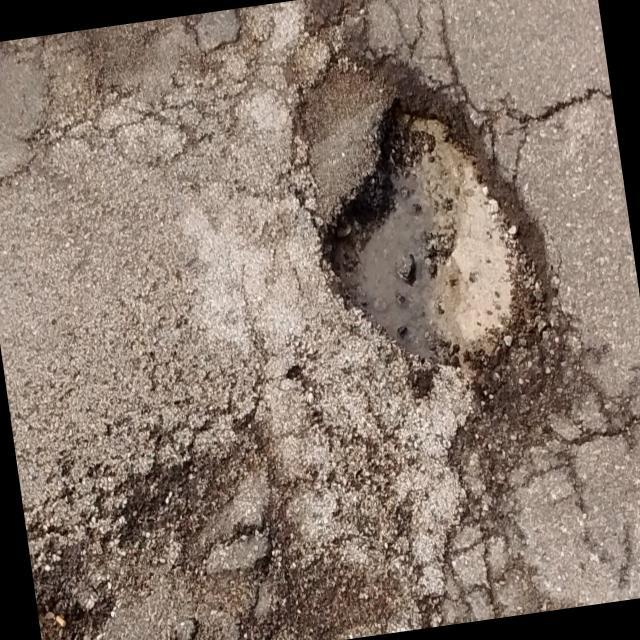Pothole: (302, 84, 598, 473), (29, 537, 125, 640)
